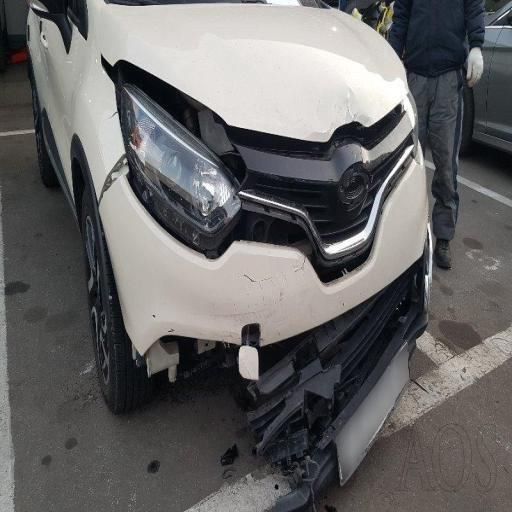broken: (230, 252, 436, 448)
dent: (72, 120, 173, 304)
